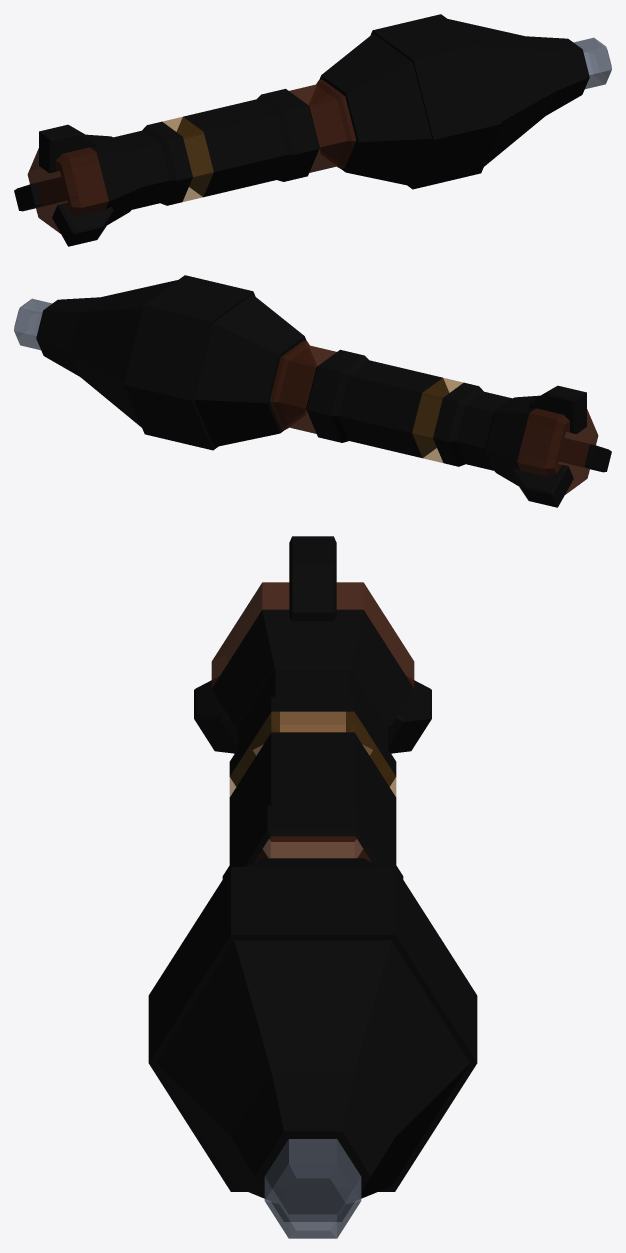
File: m72-law-rocket-launcher-rocket.obj
3 views of the same model, one above another, from view 1: azimuth 30°, elevation 25°; view 2: azimuth 150°, elevation 25°; view 3: azimuth 270°, elevation 25° (orthographic). The views are drawn at different scales.
Parts seen in each view (by area): view 1: Cylinder_Cylinder_BlackMetal, Cylinder_Cylinder_Material.001, Cylinder_Cylinder_BlackMetal.001, Cylinder_Cylinder_Metal02; view 2: Cylinder_Cylinder_BlackMetal, Cylinder_Cylinder_Material.001, Cylinder_Cylinder_BlackMetal.001, Cylinder_Cylinder_Metal02; view 3: Cylinder_Cylinder_BlackMetal, Cylinder_Cylinder_Material.001, Cylinder_Cylinder_Metal02, Cylinder_Cylinder_BlackMetal.001.
Boxes of the visible parts, x1,y1,x2,y2 form: Cylinder_Cylinder_BlackMetal: [14, 14, 589, 246]; Cylinder_Cylinder_Material.001: [27, 79, 356, 233]; Cylinder_Cylinder_BlackMetal.001: [162, 117, 213, 201]; Cylinder_Cylinder_Metal02: [573, 37, 611, 89]; Cylinder_Cylinder_BlackMetal: [36, 275, 611, 507]; Cylinder_Cylinder_Material.001: [269, 340, 598, 494]; Cylinder_Cylinder_BlackMetal.001: [412, 378, 463, 462]; Cylinder_Cylinder_Metal02: [14, 298, 52, 350]; Cylinder_Cylinder_BlackMetal: [148, 536, 477, 1214]; Cylinder_Cylinder_Material.001: [211, 582, 414, 861]; Cylinder_Cylinder_Metal02: [264, 1139, 361, 1238]; Cylinder_Cylinder_BlackMetal.001: [229, 712, 396, 796].
Bounding box in the file's own units: 3.01 × 0.6647 × 0.7644.
